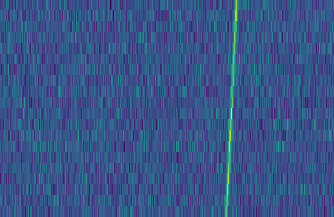signal: (222, 0, 242, 217)
